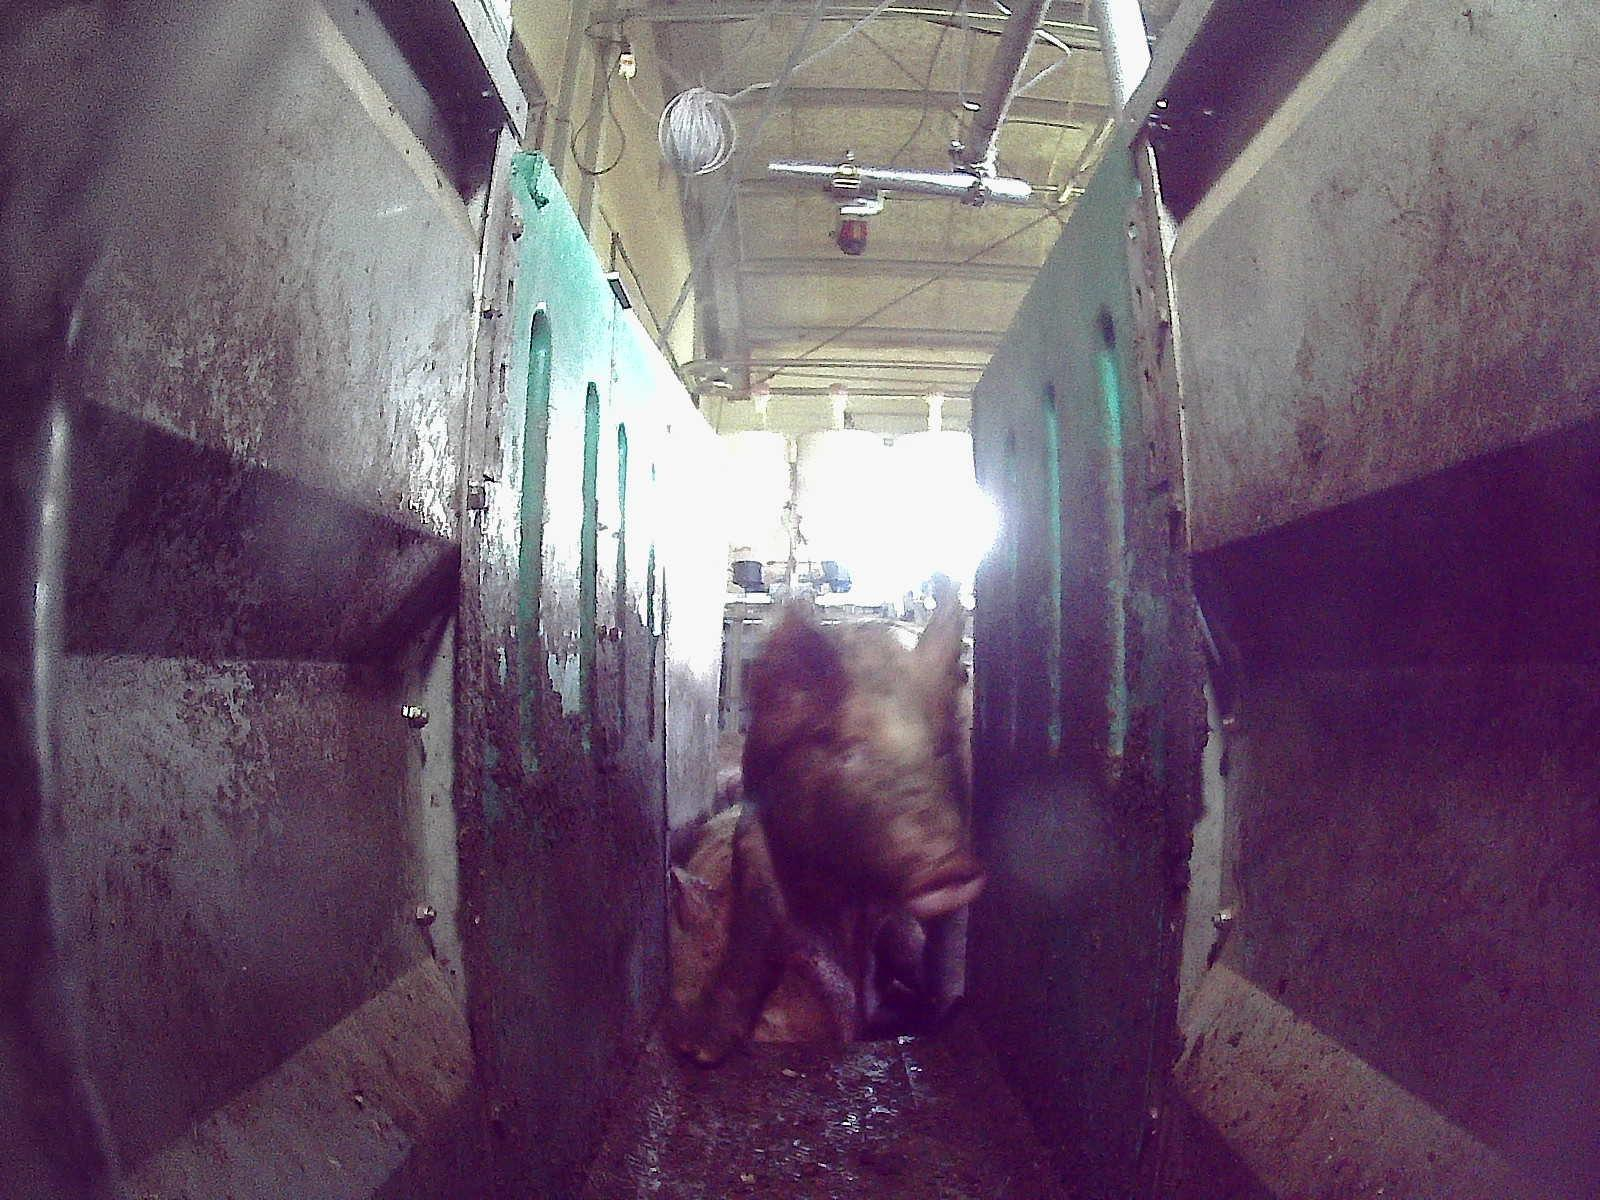Face: (797, 672, 989, 918)
